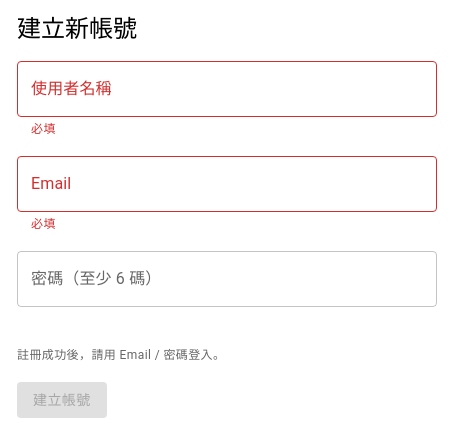
Scenario: Register Page › 欄位填寫有效時按鈕變為可點擊
Expected: the button "建立帳號" is disabled, [17,382,107,418]
Type "Sarah" into the field labelled "使用者名稱".
click(227, 89); type("Sarah")  # box [17,61,437,117]
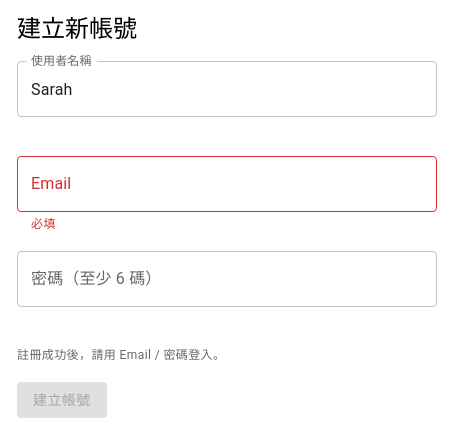
Type "test@example.com" into the field labelled "Email".
click(227, 184); type("test@example.com")  # box [17,156,437,212]
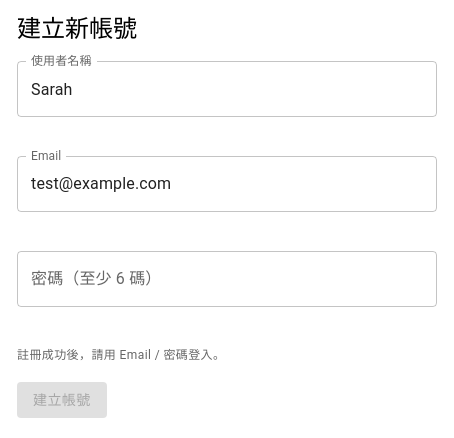
Type "123456" into the password field labelled "密碼（至少 6 碼）".
click(227, 279); type("123456")  # box [17,251,437,307]
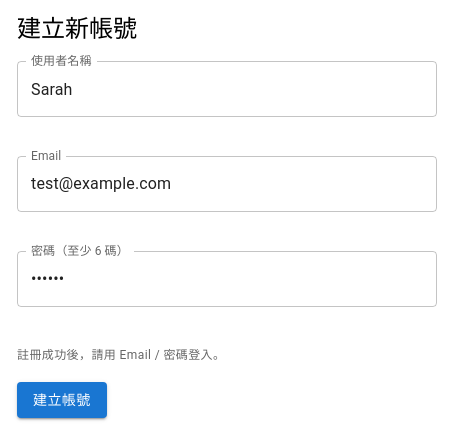
Expected: the button "建立帳號" is enabled, [17,382,107,418]
